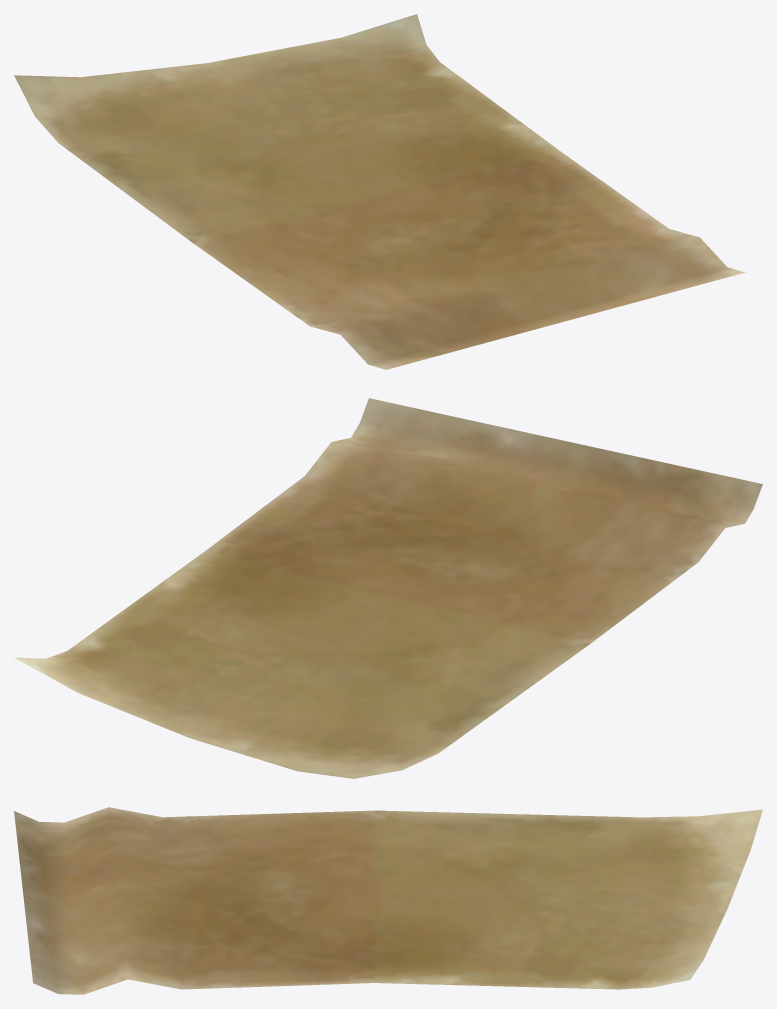
Rendered from goblin_battlemap_01.obj.
3 views of the same model, one above another, from view 1: azimuth 30°, elevation 25°; view 2: azimuth 150°, elevation 25°; view 3: azimuth 270°, elevation 25° (orthographic). The views are drawn at different scales.
Visible parts, largest first — view 1: GOBLIN_BATTLEMAP_010; view 2: GOBLIN_BATTLEMAP_010; view 3: GOBLIN_BATTLEMAP_010.
Part boxes in pixels (bbox=[...]): GOBLIN_BATTLEMAP_010: bbox=[14, 14, 750, 369]; GOBLIN_BATTLEMAP_010: bbox=[14, 398, 762, 778]; GOBLIN_BATTLEMAP_010: bbox=[14, 807, 762, 994].
Bounding box in the file's own units: 0.5186 × 0.0242 × 0.8986.
Materials: 1 (1 with a texture image).
